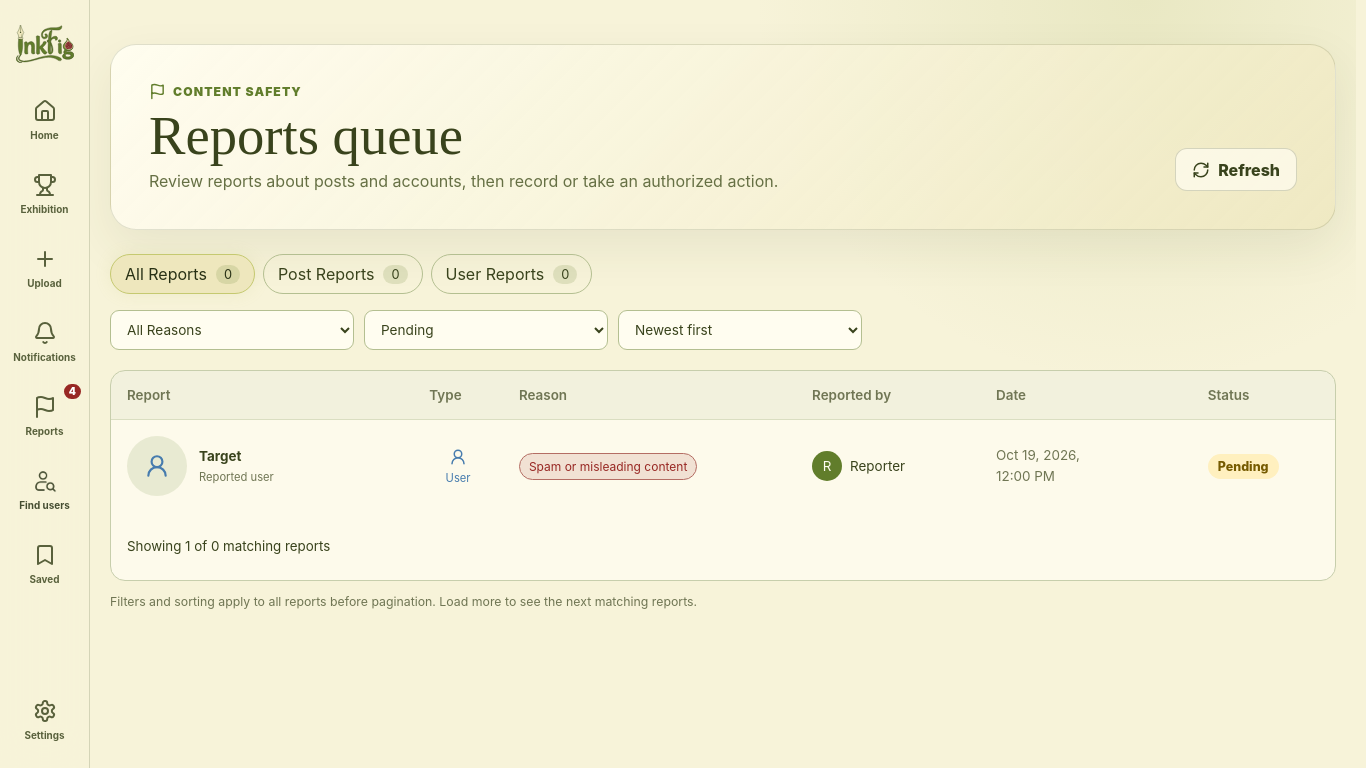
shows moderation errors inside the popup rather than behind it
This screenshot has width=1366, height=768.
Click the button with class "moderation-target".
click(220, 466)  # box [127,436,312,496]
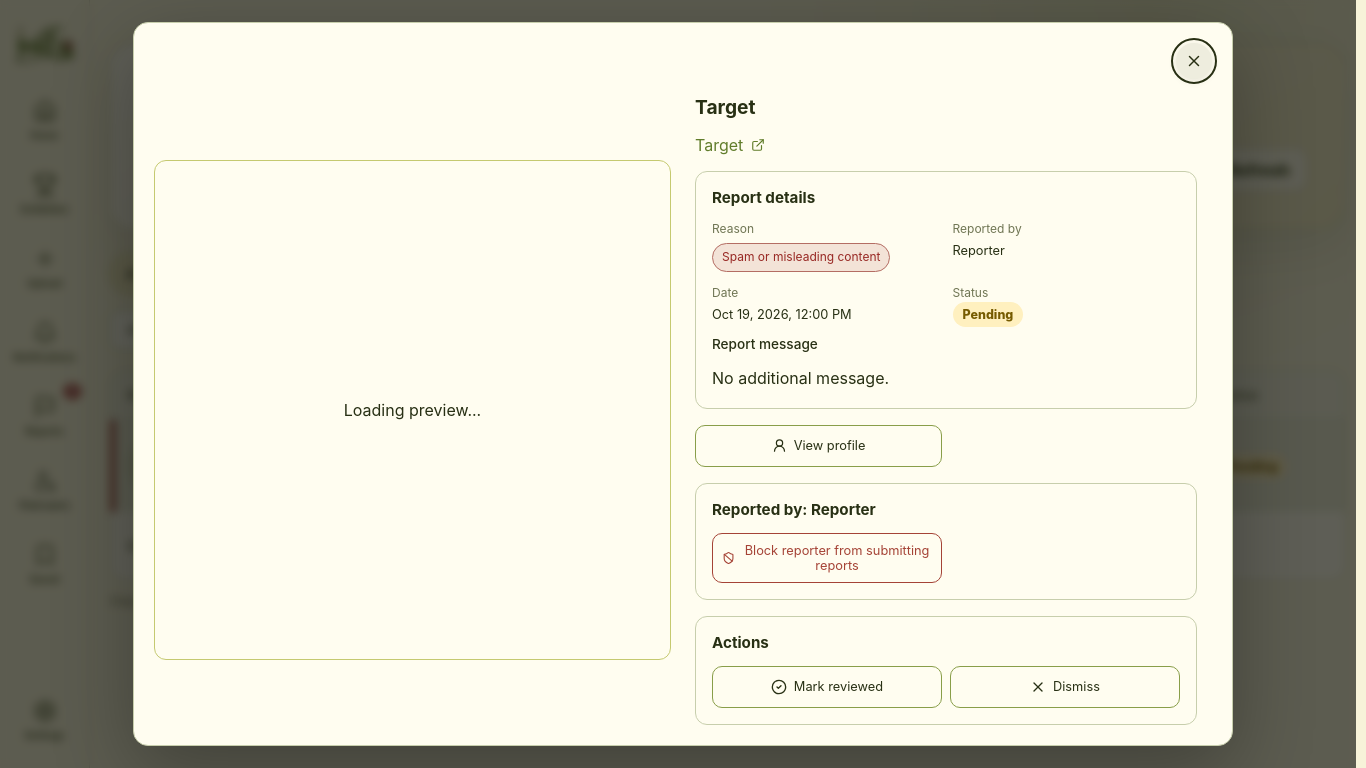
Click the button "Mark reviewed".
click(827, 687)  # box [712,666,942,708]
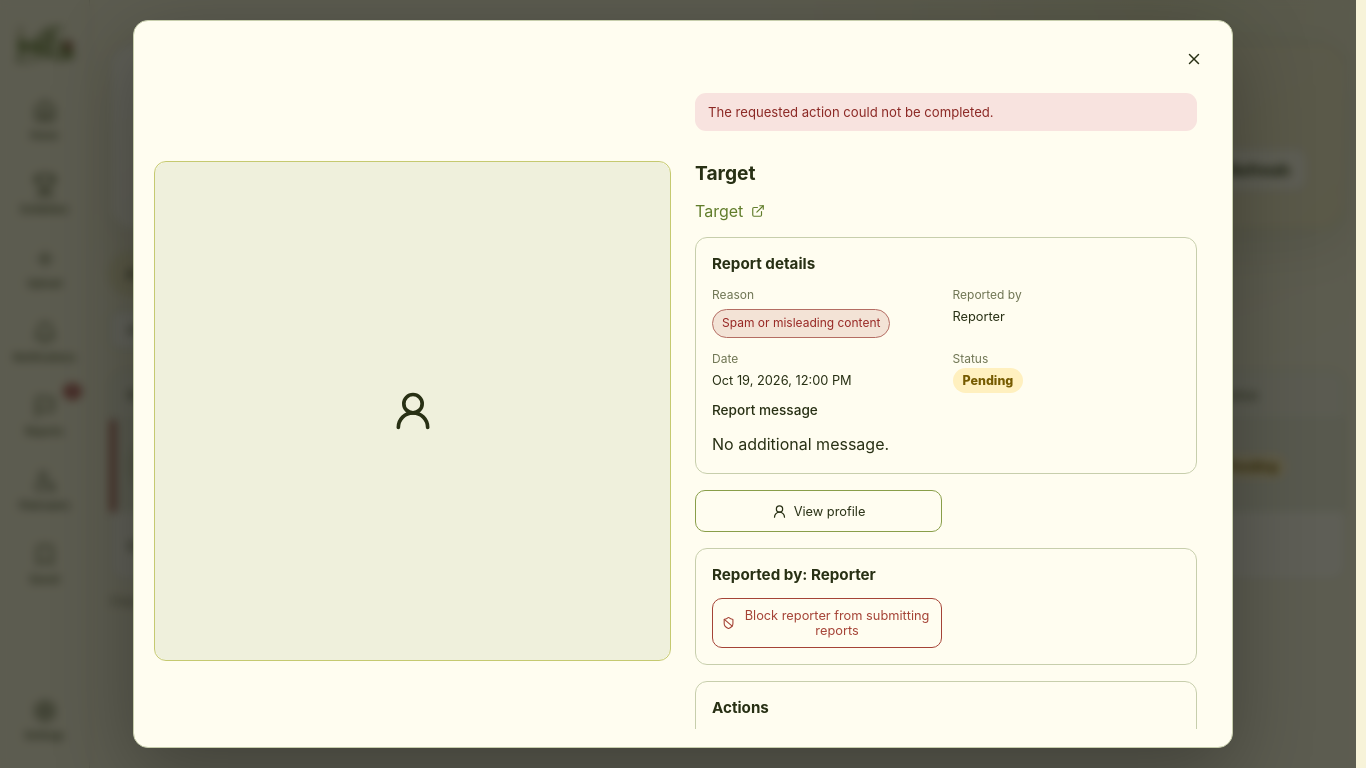
Check: the message reads "The requested action could not be completed.", box [708,104,994,120]
Check: the number of messages is 1, box [695,93,1197,131]
